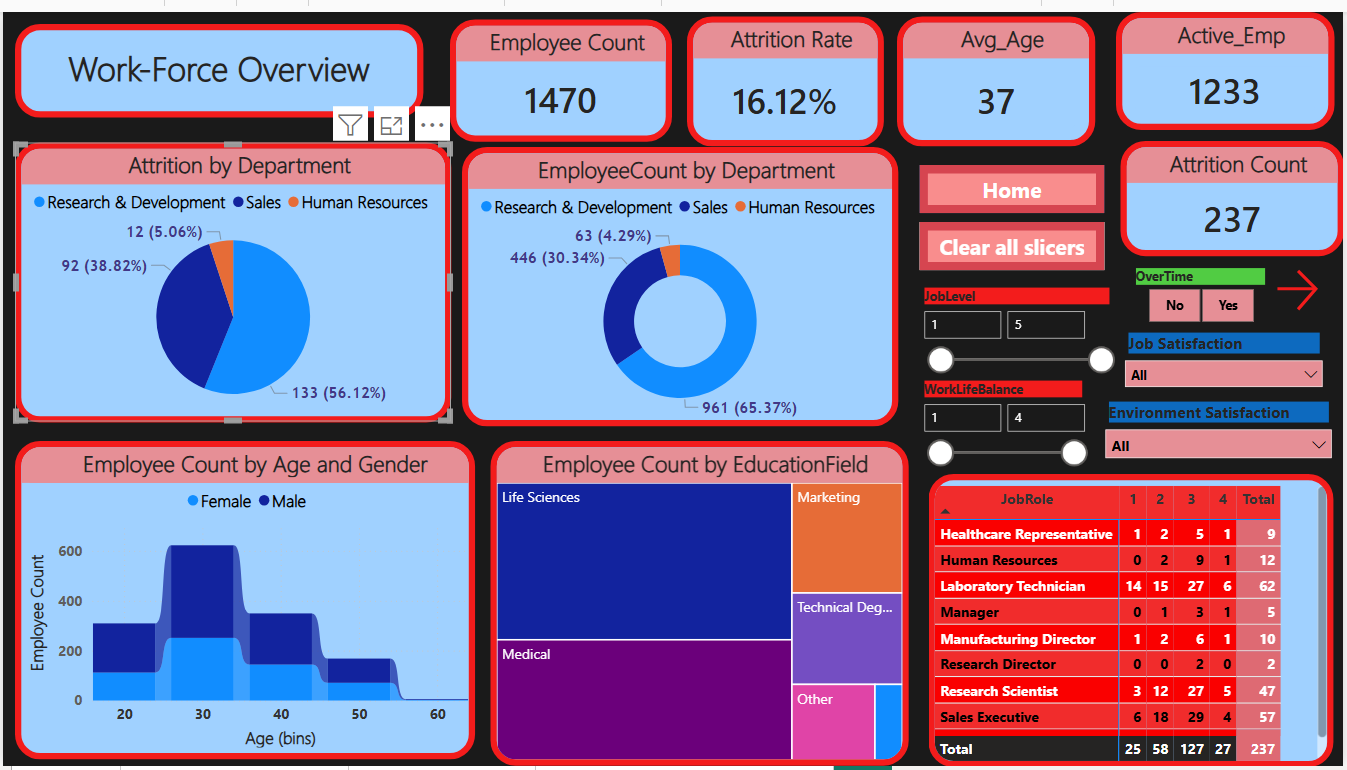

Layout of this report page (visuals, bound fields, positions):
{"tool":"powerbi","page":{"name":"Workforce Overview","canvas":[1280,720],"ordinal":1},"visuals":[{"type":"shape","box":[874.8,146.3,176.6,46.1],"z":0},{"type":"pieChart","title":" Attrition by Department","fields":{"Category":["HR-Employee-Attrition.Department"],"Y":["Sum(HR-Employee-Attrition.AttritionTotal)"]},"box":[11.1,124.1,416.7,267.2],"z":1000},{"type":"cardVisual","title":"Employee Count","fields":{"Data":["Sum(HR-Employee-Attrition.EmployeeCount)"]},"box":[427,7.6,212,116.6],"z":2000},{"type":"cardVisual","title":"Avg_Age","fields":{"Data":["HR-Employee-Attrition.Avg_age"]},"box":[854.2,4.8,189.3,124.1],"z":3000},{"type":"cardVisual","title":"Attrition Count","fields":{"Data":["Sum(HR-Employee-Attrition.AttritionTotal)"]},"box":[1067.3,122.5,213.1,109.8],"z":4000},{"type":"cardVisual","title":"Active_Emp","fields":{"Data":["HR-Employee-Attrition.Active_emp"]},"box":[1062.5,0,208.4,112.9],"z":5000},{"type":"pivotTable","fields":{"Rows":["HR-Employee-Attrition.JobRole"],"Values":["Sum(HR-Employee-Attrition.AttritionTotal)"],"Columns":["HR-Employee-Attrition.WorkLifeBalance"]},"box":[884.4,440.6,386.5,279.9],"z":6000},{"type":"cardVisual","title":"Attrition Rate","fields":{"Data":["HR-Employee-Attrition.AttritionRate"]},"box":[653.7,4.8,187.7,124.1],"z":7000},{"type":"columnChart","title":"Employee Count by Age and Gender","fields":{"Category":["HR-Employee-Attrition.Age (bins)"],"Y":["Sum(HR-Employee-Attrition.EmployeeCount)"],"Series":["HR-Employee-Attrition.Gender"]},"box":[11.1,410.4,439,303.8],"z":8000},{"type":"donutChart","title":"EmployeeCount by Department","fields":{"Y":["Sum(HR-Employee-Attrition.EmployeeCount)"],"Category":["HR-Employee-Attrition.Department"]},"box":[437.6,128.7,416.4,266.5],"z":9000},{"type":"textbox","box":[11.1,11.1,389.7,89.1],"z":10000},{"type":"treemap","title":"Employee Count by EducationField","fields":{"Group":["HR-Employee-Attrition.EducationField"],"Values":["Sum(HR-Employee-Attrition.EmployeeCount)"]},"box":[466,410.4,399.2,310.2],"z":11000},{"type":"actionButton","box":[874.8,146.3,176.6,46.1],"z":12000},{"type":"textbox","box":[874.8,200.4,176.6,46.1],"z":13000},{"type":"slicer","fields":{"Values":["HR-Employee-Attrition.JobLevel"]},"box":[866.1,257.4,202.9,89.3],"z":14000},{"type":"actionButton","box":[874.8,200.4,176.6,46.1],"z":15000},{"type":"actionButton","box":[1209.8,240.8,60.6,50],"z":16000},{"type":"slicer","fields":{"Values":["HR-Employee-Attrition.OverTime"]},"box":[1069,239.2,149.9,63.6],"z":17000},{"type":"slicer","fields":{"Values":["HR-Employee-Attrition.EnvironmentSatisfaction"]},"box":[1043.3,366.4,236.2,68.1],"z":18000},{"type":"slicer","fields":{"Values":["HR-Employee-Attrition.JobSatisfaction"]},"box":[1061.5,301.3,209,65.1],"z":19000},{"type":"slicer","fields":{"Values":["HR-Employee-Attrition.WorkLifeBalance"]},"box":[866.1,346.8,177.2,87.8],"z":20000}]}

Visuals, with their boxes in screenshot pixels (x1, y1, x2, y2), scaled from the page's 1280x720 canvas onto the 1347x770 screenshot:
shape: bbox=(921, 156, 1106, 206)
" Attrition by Department" pieChart: bbox=(12, 133, 450, 418)
"Employee Count" cardVisual: bbox=(449, 8, 672, 133)
"Avg_Age" cardVisual: bbox=(899, 5, 1098, 138)
"Attrition Count" cardVisual: bbox=(1123, 131, 1346, 248)
"Active_Emp" cardVisual: bbox=(1118, 0, 1337, 121)
pivotTable - HR-Employee-Attrition.JobRole x Sum(HR-Employee-Attrition.AttritionTotal): bbox=(931, 471, 1337, 769)
"Attrition Rate" cardVisual: bbox=(688, 5, 885, 138)
"Employee Count by Age and Gender" columnChart: bbox=(12, 439, 474, 764)
"EmployeeCount by Department" donutChart: bbox=(461, 138, 899, 423)
textbox: bbox=(12, 12, 422, 107)
"Employee Count by EducationField" treemap: bbox=(490, 439, 910, 769)
actionButton: bbox=(921, 156, 1106, 206)
textbox: bbox=(921, 214, 1106, 264)
slicer - HR-Employee-Attrition.JobLevel: bbox=(911, 275, 1125, 371)
actionButton: bbox=(921, 214, 1106, 264)
actionButton: bbox=(1273, 258, 1337, 311)
slicer - HR-Employee-Attrition.OverTime: bbox=(1125, 256, 1283, 324)
slicer - HR-Employee-Attrition.EnvironmentSatisfaction: bbox=(1098, 392, 1346, 465)
slicer - HR-Employee-Attrition.JobSatisfaction: bbox=(1117, 322, 1337, 392)
slicer - HR-Employee-Attrition.WorkLifeBalance: bbox=(911, 371, 1098, 465)
